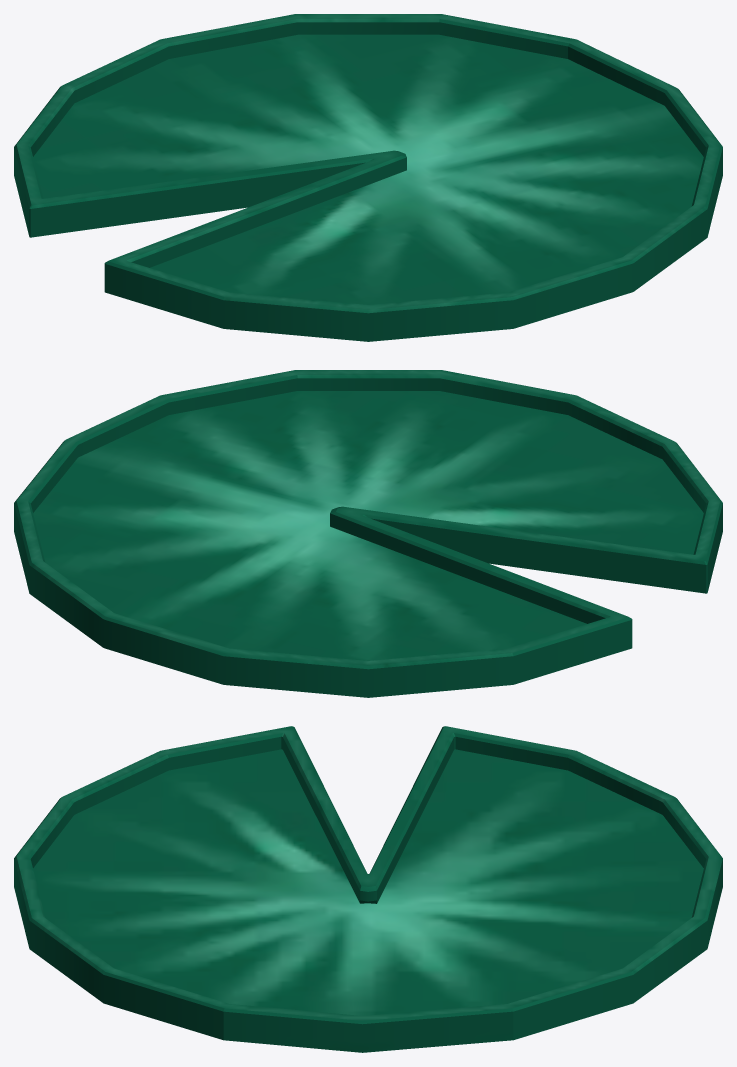
The model's file is lily-pad.lod0.glb.
3 renders of one model, top to bottom at view 1: azimuth 30°, elevation 25°; view 2: azimuth 150°, elevation 25°; view 3: azimuth 270°, elevation 25°, orthographic.
Visible parts, largest first — view 1: Object_5; view 2: Object_5; view 3: Object_5.
Part boxes in pixels (x1,y1,x2,y2): Object_5: (14,14,722,341); Object_5: (14,370,722,697); Object_5: (14,726,722,1052).
Bounding box in the file's own units: 3.97 × 0.1924 × 4.
Materials: 1 (1 with a texture image).
